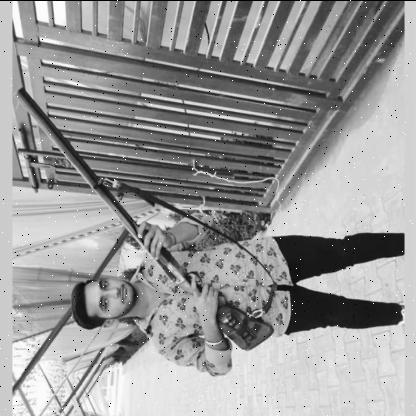rifle: (13, 85, 276, 352)
